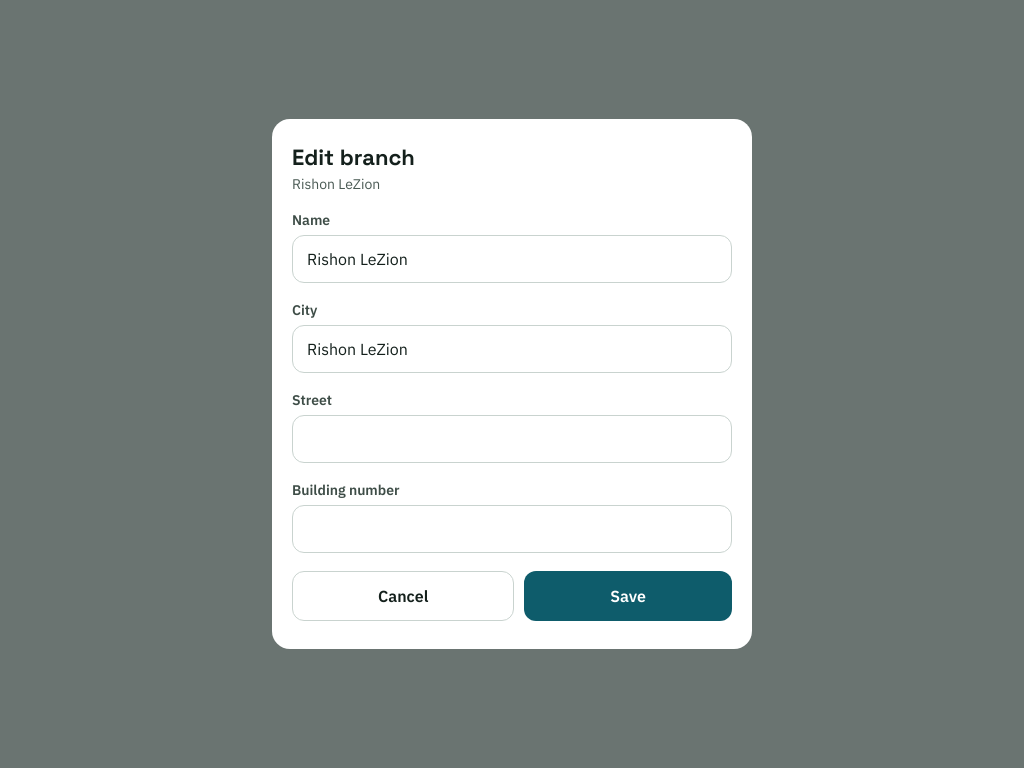
BranchEditDialog › shows 422 field errors under their fields
The width and height of the screenshot is (1024, 768).
Clear the field labelled "Name" at (512, 259), box [292, 235, 732, 283]
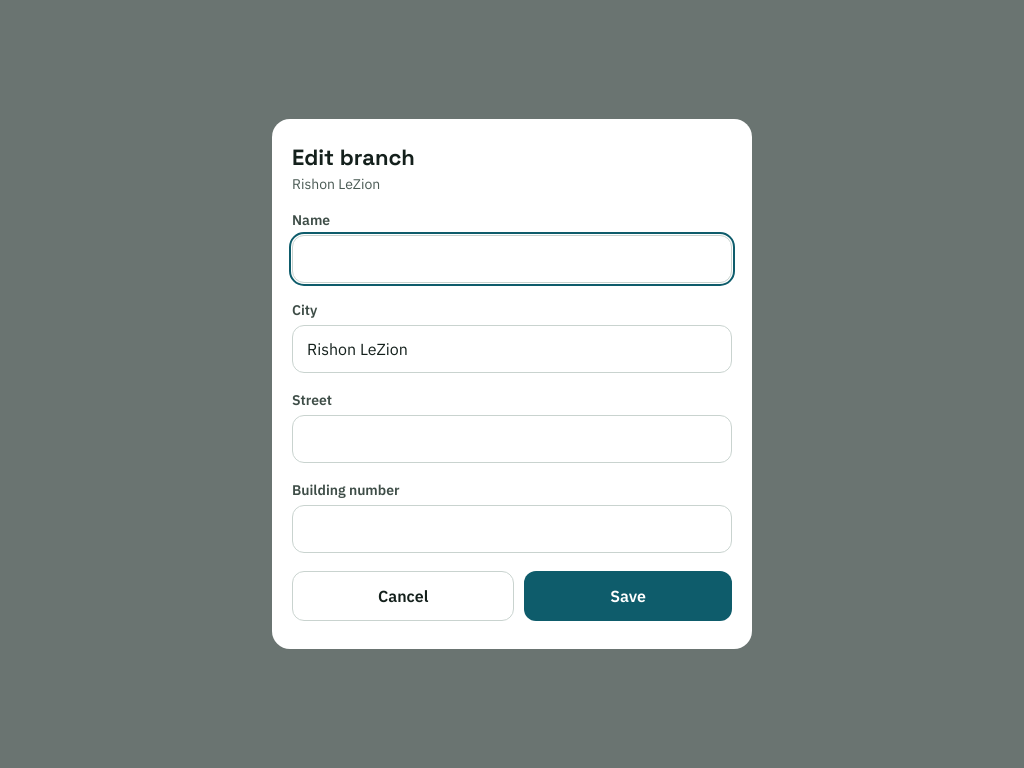
Click the button "Save".
click(628, 596)  # box [524, 571, 732, 621]
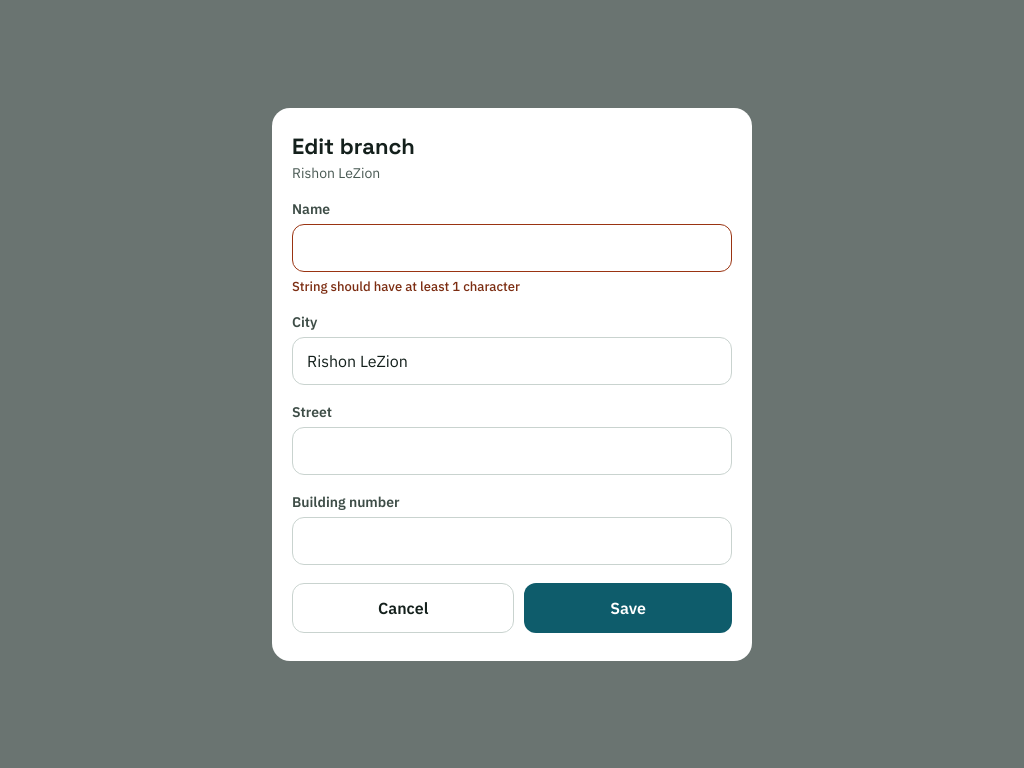
Expected: the dialog "Edit branch" is shown, [272, 108, 752, 660]
Now the text "String should have at least 1 character" is shown, box [292, 278, 520, 294]
